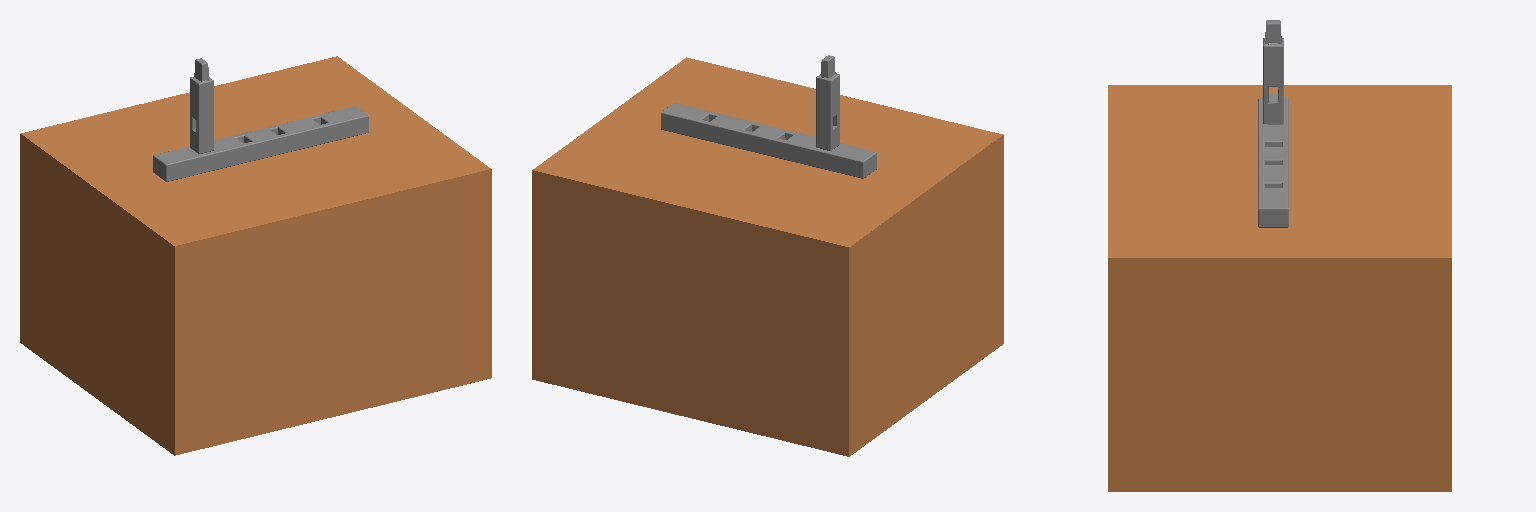
The robot description file, URDF, robot "table_beam_2x_0_scene_0089":
<?xml version="1.0"?>
<robot name="table_beam_2x_0_scene_0089">
  <link name="box">
    <visual>
      <material name="wood"><color rgba="0.82 0.56 0.35 1.0"/></material>
      <origin xyz="0 0 0"/>
      <geometry><box size="0.475 0.4 0.3"/></geometry>
    </visual>
    <collision>
      <origin xyz="0 0 0"/>
      <geometry><box size="0.475 0.4 0.3"/></geometry>
    </collision>
    <inertial>
      <mass value="500"/>
      <friction value="1.0"/>
      <inertia ixx="1000.0" ixy="0.0" ixz="0.0" iyy="1000.0" iyz="0.0" izz="1000.0"/>
    </inertial>
  </link>
  <link name="part_6_canonical">
    <visual>
      <origin xyz="0 0 0" rpy="0 0 0"/>
      <geometry><mesh filename="../../6/6_canonical.obj" scale="1 1 1"/></geometry>
      <material name="placed_0"><color rgba="0.6 0.6 0.6 1.0"/></material>
    </visual>
    <collision>
      <origin xyz="0 0 0" rpy="0 0 0"/>
      <geometry><mesh filename="../../6/6_canonical.obj" scale="1 1 1"/></geometry>
    </collision>
  </link>
  <joint name="part_6_canonical_joint" type="fixed">
    <parent link="box"/>
    <child link="part_6_canonical"/>
    <origin xyz="0.003256 -0.007660 0.162666" rpy="0.000000 0.000000 0.000000"/>
  </joint>
  <link name="part_2_hull_0">
    <visual>
      <origin xyz="0 0 0" rpy="0 0 0"/>
      <geometry><mesh filename="../../2/coacd/decomp_0.obj" scale="1 1 1"/></geometry>
      <material name="placed_1"><color rgba="0.6 0.6 0.6 1.0"/></material>
    </visual>
    <collision>
      <origin xyz="0 0 0" rpy="0 0 0"/>
      <geometry><mesh filename="../../2/coacd/decomp_0.obj" scale="1 1 1"/></geometry>
    </collision>
  </link>
  <joint name="part_2_hull_0_joint" type="fixed">
    <parent link="box"/>
    <child link="part_2_hull_0"/>
    <origin xyz="-0.085671 -0.007660 0.225384" rpy="0.000000 -1.570796 0.000000"/>
  </joint>
  <link name="part_2_hull_1">
    <visual>
      <origin xyz="0 0 0" rpy="0 0 0"/>
      <geometry><mesh filename="../../2/coacd/decomp_1.obj" scale="1 1 1"/></geometry>
      <material name="placed_2"><color rgba="0.6 0.6 0.6 1.0"/></material>
    </visual>
    <collision>
      <origin xyz="0 0 0" rpy="0 0 0"/>
      <geometry><mesh filename="../../2/coacd/decomp_1.obj" scale="1 1 1"/></geometry>
    </collision>
  </link>
  <joint name="part_2_hull_1_joint" type="fixed">
    <parent link="box"/>
    <child link="part_2_hull_1"/>
    <origin xyz="-0.085671 -0.007660 0.225384" rpy="0.000000 -1.570796 0.000000"/>
  </joint>
  <link name="part_2_hull_2">
    <visual>
      <origin xyz="0 0 0" rpy="0 0 0"/>
      <geometry><mesh filename="../../2/coacd/decomp_10.obj" scale="1 1 1"/></geometry>
      <material name="placed_3"><color rgba="0.6 0.6 0.6 1.0"/></material>
    </visual>
    <collision>
      <origin xyz="0 0 0" rpy="0 0 0"/>
      <geometry><mesh filename="../../2/coacd/decomp_10.obj" scale="1 1 1"/></geometry>
    </collision>
  </link>
  <joint name="part_2_hull_2_joint" type="fixed">
    <parent link="box"/>
    <child link="part_2_hull_2"/>
    <origin xyz="-0.085671 -0.007660 0.225384" rpy="0.000000 -1.570796 0.000000"/>
  </joint>
  <link name="part_2_hull_3">
    <visual>
      <origin xyz="0 0 0" rpy="0 0 0"/>
      <geometry><mesh filename="../../2/coacd/decomp_11.obj" scale="1 1 1"/></geometry>
      <material name="placed_4"><color rgba="0.6 0.6 0.6 1.0"/></material>
    </visual>
    <collision>
      <origin xyz="0 0 0" rpy="0 0 0"/>
      <geometry><mesh filename="../../2/coacd/decomp_11.obj" scale="1 1 1"/></geometry>
    </collision>
  </link>
  <joint name="part_2_hull_3_joint" type="fixed">
    <parent link="box"/>
    <child link="part_2_hull_3"/>
    <origin xyz="-0.085671 -0.007660 0.225384" rpy="0.000000 -1.570796 0.000000"/>
  </joint>
  <link name="part_2_hull_4">
    <visual>
      <origin xyz="0 0 0" rpy="0 0 0"/>
      <geometry><mesh filename="../../2/coacd/decomp_12.obj" scale="1 1 1"/></geometry>
      <material name="placed_5"><color rgba="0.6 0.6 0.6 1.0"/></material>
    </visual>
    <collision>
      <origin xyz="0 0 0" rpy="0 0 0"/>
      <geometry><mesh filename="../../2/coacd/decomp_12.obj" scale="1 1 1"/></geometry>
    </collision>
  </link>
  <joint name="part_2_hull_4_joint" type="fixed">
    <parent link="box"/>
    <child link="part_2_hull_4"/>
    <origin xyz="-0.085671 -0.007660 0.225384" rpy="0.000000 -1.570796 0.000000"/>
  </joint>
  <link name="part_2_hull_5">
    <visual>
      <origin xyz="0 0 0" rpy="0 0 0"/>
      <geometry><mesh filename="../../2/coacd/decomp_13.obj" scale="1 1 1"/></geometry>
      <material name="placed_6"><color rgba="0.6 0.6 0.6 1.0"/></material>
    </visual>
    <collision>
      <origin xyz="0 0 0" rpy="0 0 0"/>
      <geometry><mesh filename="../../2/coacd/decomp_13.obj" scale="1 1 1"/></geometry>
    </collision>
  </link>
  <joint name="part_2_hull_5_joint" type="fixed">
    <parent link="box"/>
    <child link="part_2_hull_5"/>
    <origin xyz="-0.085671 -0.007660 0.225384" rpy="0.000000 -1.570796 0.000000"/>
  </joint>
  <link name="part_2_hull_6">
    <visual>
      <origin xyz="0 0 0" rpy="0 0 0"/>
      <geometry><mesh filename="../../2/coacd/decomp_14.obj" scale="1 1 1"/></geometry>
      <material name="placed_7"><color rgba="0.6 0.6 0.6 1.0"/></material>
    </visual>
    <collision>
      <origin xyz="0 0 0" rpy="0 0 0"/>
      <geometry><mesh filename="../../2/coacd/decomp_14.obj" scale="1 1 1"/></geometry>
    </collision>
  </link>
  <joint name="part_2_hull_6_joint" type="fixed">
    <parent link="box"/>
    <child link="part_2_hull_6"/>
    <origin xyz="-0.085671 -0.007660 0.225384" rpy="0.000000 -1.570796 0.000000"/>
  </joint>
  <link name="part_2_hull_7">
    <visual>
      <origin xyz="0 0 0" rpy="0 0 0"/>
      <geometry><mesh filename="../../2/coacd/decomp_15.obj" scale="1 1 1"/></geometry>
      <material name="placed_8"><color rgba="0.6 0.6 0.6 1.0"/></material>
    </visual>
    <collision>
      <origin xyz="0 0 0" rpy="0 0 0"/>
      <geometry><mesh filename="../../2/coacd/decomp_15.obj" scale="1 1 1"/></geometry>
    </collision>
  </link>
  <joint name="part_2_hull_7_joint" type="fixed">
    <parent link="box"/>
    <child link="part_2_hull_7"/>
    <origin xyz="-0.085671 -0.007660 0.225384" rpy="0.000000 -1.570796 0.000000"/>
  </joint>
  <link name="part_2_hull_8">
    <visual>
      <origin xyz="0 0 0" rpy="0 0 0"/>
      <geometry><mesh filename="../../2/coacd/decomp_2.obj" scale="1 1 1"/></geometry>
      <material name="placed_9"><color rgba="0.6 0.6 0.6 1.0"/></material>
    </visual>
    <collision>
      <origin xyz="0 0 0" rpy="0 0 0"/>
      <geometry><mesh filename="../../2/coacd/decomp_2.obj" scale="1 1 1"/></geometry>
    </collision>
  </link>
  <joint name="part_2_hull_8_joint" type="fixed">
    <parent link="box"/>
    <child link="part_2_hull_8"/>
    <origin xyz="-0.085671 -0.007660 0.225384" rpy="0.000000 -1.570796 0.000000"/>
  </joint>
  <link name="part_2_hull_9">
    <visual>
      <origin xyz="0 0 0" rpy="0 0 0"/>
      <geometry><mesh filename="../../2/coacd/decomp_3.obj" scale="1 1 1"/></geometry>
      <material name="placed_10"><color rgba="0.6 0.6 0.6 1.0"/></material>
    </visual>
    <collision>
      <origin xyz="0 0 0" rpy="0 0 0"/>
      <geometry><mesh filename="../../2/coacd/decomp_3.obj" scale="1 1 1"/></geometry>
    </collision>
  </link>
  <joint name="part_2_hull_9_joint" type="fixed">
    <parent link="box"/>
    <child link="part_2_hull_9"/>
    <origin xyz="-0.085671 -0.007660 0.225384" rpy="0.000000 -1.570796 0.000000"/>
  </joint>
  <link name="part_2_hull_10">
    <visual>
      <origin xyz="0 0 0" rpy="0 0 0"/>
      <geometry><mesh filename="../../2/coacd/decomp_4.obj" scale="1 1 1"/></geometry>
      <material name="placed_11"><color rgba="0.6 0.6 0.6 1.0"/></material>
    </visual>
    <collision>
      <origin xyz="0 0 0" rpy="0 0 0"/>
      <geometry><mesh filename="../../2/coacd/decomp_4.obj" scale="1 1 1"/></geometry>
    </collision>
  </link>
  <joint name="part_2_hull_10_joint" type="fixed">
    <parent link="box"/>
    <child link="part_2_hull_10"/>
    <origin xyz="-0.085671 -0.007660 0.225384" rpy="0.000000 -1.570796 0.000000"/>
  </joint>
  <link name="part_2_hull_11">
    <visual>
      <origin xyz="0 0 0" rpy="0 0 0"/>
      <geometry><mesh filename="../../2/coacd/decomp_5.obj" scale="1 1 1"/></geometry>
      <material name="placed_12"><color rgba="0.6 0.6 0.6 1.0"/></material>
    </visual>
    <collision>
      <origin xyz="0 0 0" rpy="0 0 0"/>
      <geometry><mesh filename="../../2/coacd/decomp_5.obj" scale="1 1 1"/></geometry>
    </collision>
  </link>
  <joint name="part_2_hull_11_joint" type="fixed">
    <parent link="box"/>
    <child link="part_2_hull_11"/>
    <origin xyz="-0.085671 -0.007660 0.225384" rpy="0.000000 -1.570796 0.000000"/>
  </joint>
  <link name="part_2_hull_12">
    <visual>
      <origin xyz="0 0 0" rpy="0 0 0"/>
      <geometry><mesh filename="../../2/coacd/decomp_6.obj" scale="1 1 1"/></geometry>
      <material name="placed_13"><color rgba="0.6 0.6 0.6 1.0"/></material>
    </visual>
    <collision>
      <origin xyz="0 0 0" rpy="0 0 0"/>
      <geometry><mesh filename="../../2/coacd/decomp_6.obj" scale="1 1 1"/></geometry>
    </collision>
  </link>
  <joint name="part_2_hull_12_joint" type="fixed">
    <parent link="box"/>
    <child link="part_2_hull_12"/>
    <origin xyz="-0.085671 -0.007660 0.225384" rpy="0.000000 -1.570796 0.000000"/>
  </joint>
  <link name="part_2_hull_13">
    <visual>
      <origin xyz="0 0 0" rpy="0 0 0"/>
      <geometry><mesh filename="../../2/coacd/decomp_7.obj" scale="1 1 1"/></geometry>
      <material name="placed_14"><color rgba="0.6 0.6 0.6 1.0"/></material>
    </visual>
    <collision>
      <origin xyz="0 0 0" rpy="0 0 0"/>
      <geometry><mesh filename="../../2/coacd/decomp_7.obj" scale="1 1 1"/></geometry>
    </collision>
  </link>
  <joint name="part_2_hull_13_joint" type="fixed">
    <parent link="box"/>
    <child link="part_2_hull_13"/>
    <origin xyz="-0.085671 -0.007660 0.225384" rpy="0.000000 -1.570796 0.000000"/>
  </joint>
  <link name="part_2_hull_14">
    <visual>
      <origin xyz="0 0 0" rpy="0 0 0"/>
      <geometry><mesh filename="../../2/coacd/decomp_8.obj" scale="1 1 1"/></geometry>
      <material name="placed_15"><color rgba="0.6 0.6 0.6 1.0"/></material>
    </visual>
    <collision>
      <origin xyz="0 0 0" rpy="0 0 0"/>
      <geometry><mesh filename="../../2/coacd/decomp_8.obj" scale="1 1 1"/></geometry>
    </collision>
  </link>
  <joint name="part_2_hull_14_joint" type="fixed">
    <parent link="box"/>
    <child link="part_2_hull_14"/>
    <origin xyz="-0.085671 -0.007660 0.225384" rpy="0.000000 -1.570796 0.000000"/>
  </joint>
  <link name="part_2_hull_15">
    <visual>
      <origin xyz="0 0 0" rpy="0 0 0"/>
      <geometry><mesh filename="../../2/coacd/decomp_9.obj" scale="1 1 1"/></geometry>
      <material name="placed_16"><color rgba="0.6 0.6 0.6 1.0"/></material>
    </visual>
    <collision>
      <origin xyz="0 0 0" rpy="0 0 0"/>
      <geometry><mesh filename="../../2/coacd/decomp_9.obj" scale="1 1 1"/></geometry>
    </collision>
  </link>
  <joint name="part_2_hull_15_joint" type="fixed">
    <parent link="box"/>
    <child link="part_2_hull_15"/>
    <origin xyz="-0.085671 -0.007660 0.225384" rpy="0.000000 -1.570796 0.000000"/>
  </joint>
</robot>

--- Render facts (derived) ---
Views: 3 orthographic renders of the robot side by side, from view 1: azimuth 30°, elevation 25°; view 2: azimuth 150°, elevation 25°; view 3: azimuth 270°, elevation 25°.
Model table_beam_2x_0_scene_0089 with 18 links and 17 joints (17 fixed), rooted at box, posed every joint at zero.
Links seen in each view (by area): view 1: box, part_6_canonical, part_2_hull_1; view 2: box, part_6_canonical, part_2_hull_1; view 3: box, part_6_canonical.
Link boxes in pixels (x1,y1,x2,y2): box: [20, 56, 491, 455]; part_6_canonical: [153, 106, 368, 181]; part_2_hull_1: [190, 77, 202, 121]; box: [532, 57, 1003, 456]; part_6_canonical: [661, 103, 876, 178]; part_2_hull_1: [827, 73, 839, 118]; box: [1108, 85, 1451, 491]; part_6_canonical: [1258, 98, 1288, 227].
Size in the robot's own frame: 0.475 by 0.4 by 0.4524 metres.
Meshes: 17 distinct files referenced, 17 mesh visuals loaded (17 OBJ).
